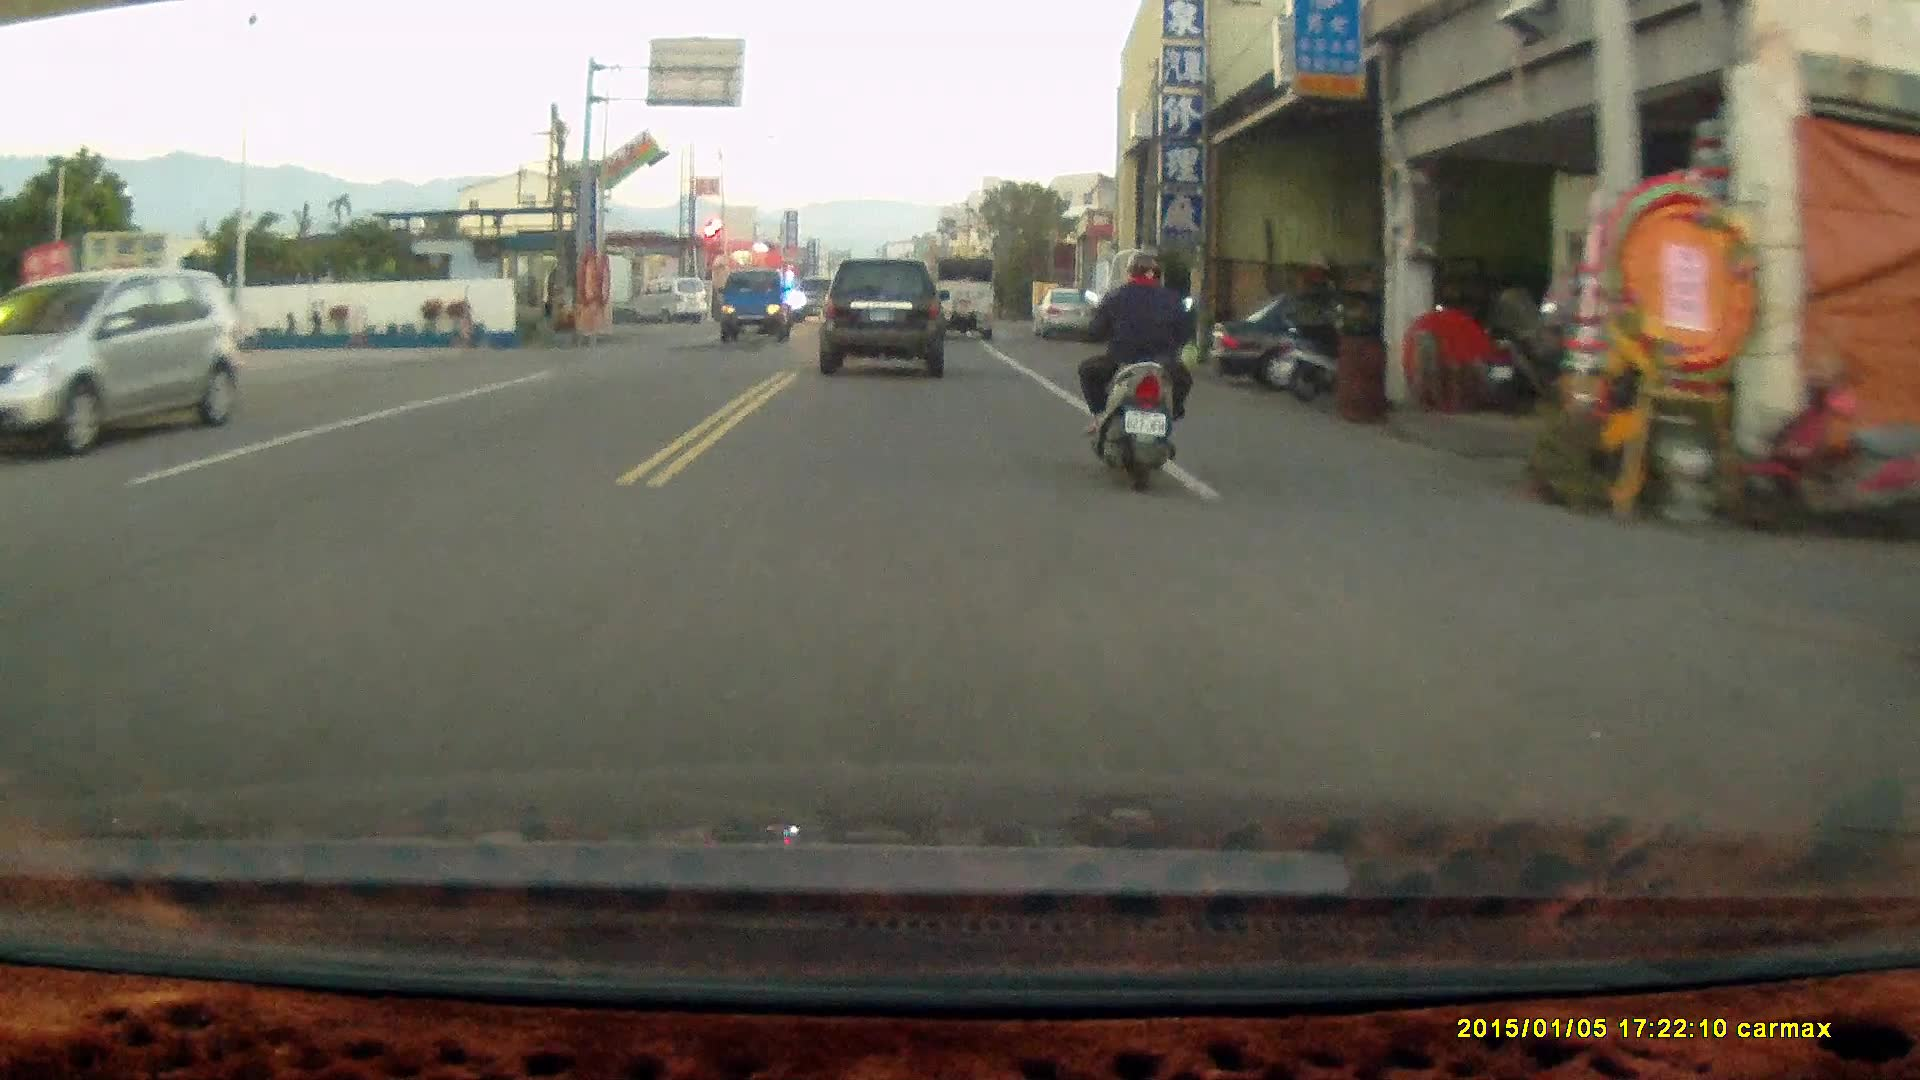rider: (1079, 246, 1195, 490)
vehicle: (1, 268, 246, 458), (1204, 287, 1462, 397), (819, 257, 947, 378), (721, 269, 802, 346), (927, 257, 999, 341), (628, 279, 713, 328), (1034, 289, 1097, 340)
